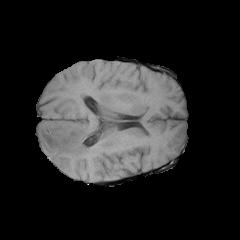glioma: (40, 124, 94, 167)
